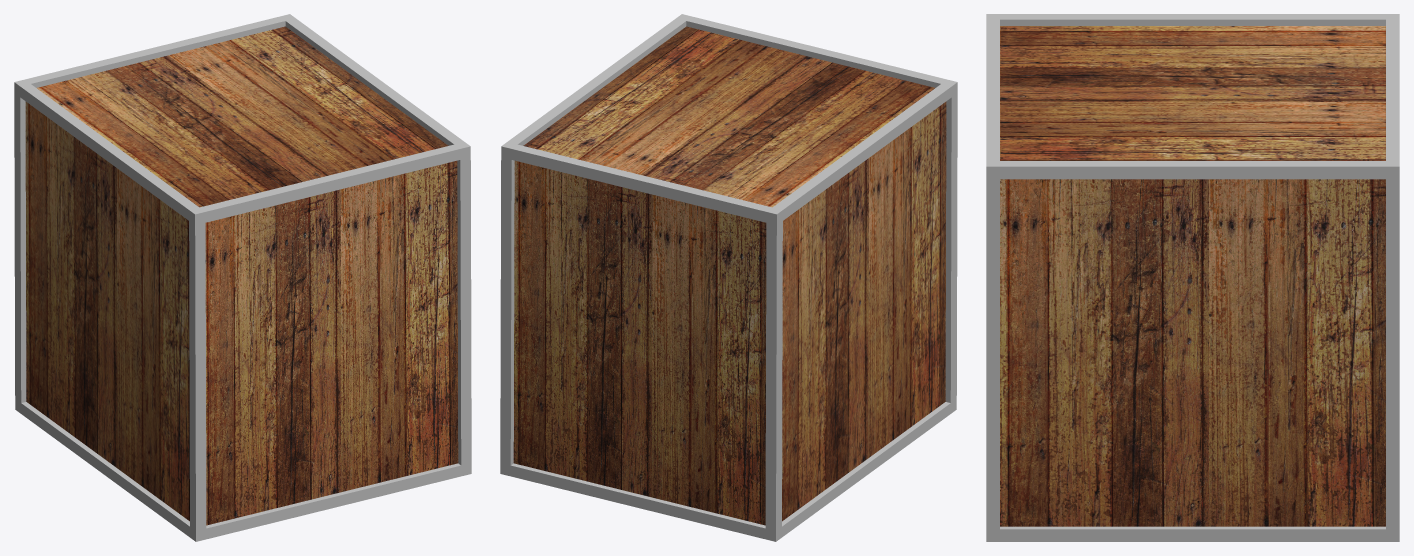
The picture shows the model from 3 angles, left to right: view 1: azimuth 30°, elevation 25°; view 2: azimuth 150°, elevation 25°; view 3: azimuth 270°, elevation 25°; orthographic projection. The views are drawn at different scales.
Parts seen in each view (by area): view 1: ssss01; view 2: ssss01; view 3: ssss01.
Boxes of the visible parts, x1,y1,x2,y2 form: ssss01: (14, 14, 471, 541); ssss01: (500, 14, 957, 541); ssss01: (986, 14, 1399, 541).
Bounding box in the file's own units: 13.42 × 15.19 × 15.23.
